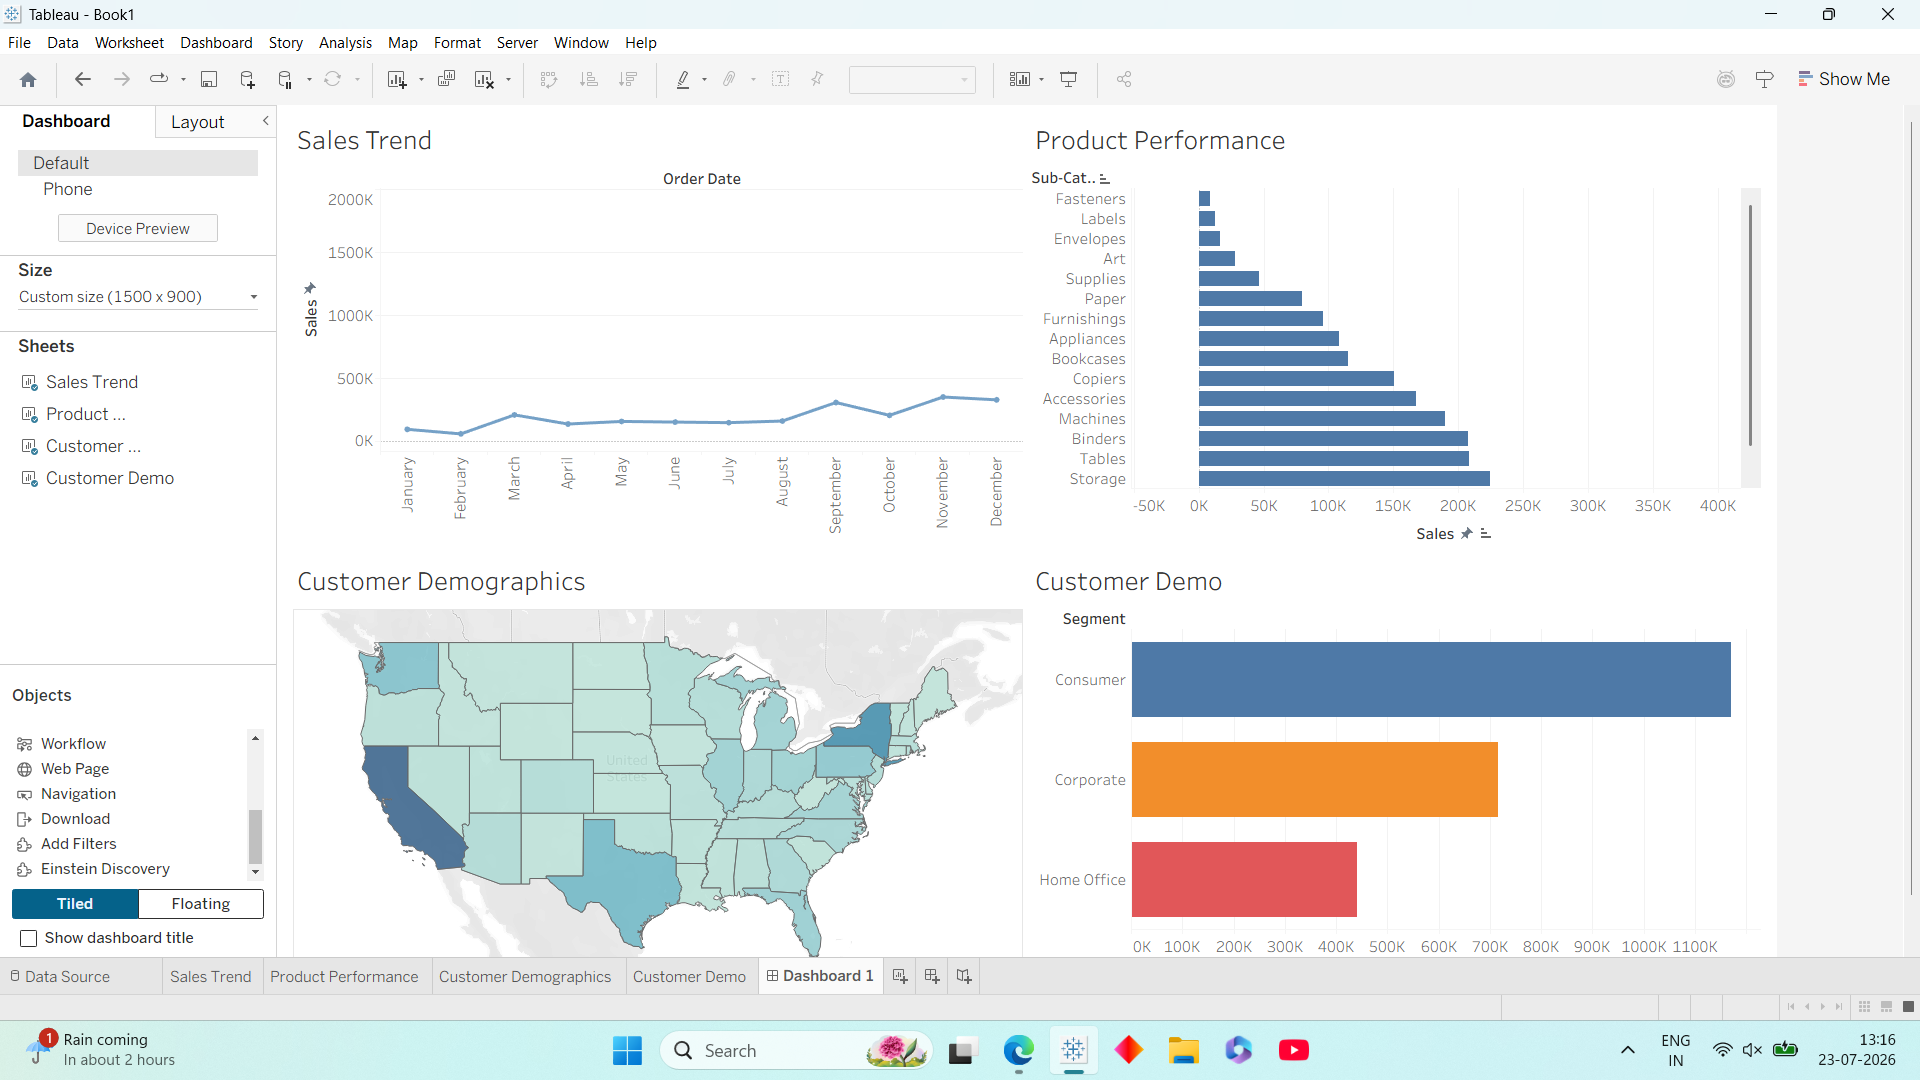

The page's visual inventory and layout, read from the dashboard file:
{"tool":"tableau","page":{"name":"Dashboard 1","canvas":[1500,900],"ordinal":0},"visuals":[{"type":"worksheet","title":"Sales Trend","mark":"Automatic","rows":["Sales"],"cols":["Order Date"],"box":[12,9,738,441]},{"type":"worksheet","title":"Product Performance","mark":"Automatic","rows":["Sub-Category"],"cols":["Sales"],"box":[750,9,738,441]},{"type":"worksheet","title":"Customer Demographics","mark":"Automatic","box":[12,450,738,441]},{"type":"worksheet","title":"Customer Demo","mark":"Automatic","rows":["Segment"],"cols":["Sales"],"box":[750,450,738,441]}]}

Visuals, with their boxes on the page's 1500x900 design canvas (x1, y1, x2, y2). These are canvas units, not pixel positions in the 1920x1080 screenshot, which may show the page scaled, cropped or inside an application window:
"Sales Trend" worksheet: box=[12, 9, 750, 450]
"Product Performance" worksheet: box=[750, 9, 1488, 450]
"Customer Demographics" worksheet: box=[12, 450, 750, 891]
"Customer Demo" worksheet: box=[750, 450, 1488, 891]
